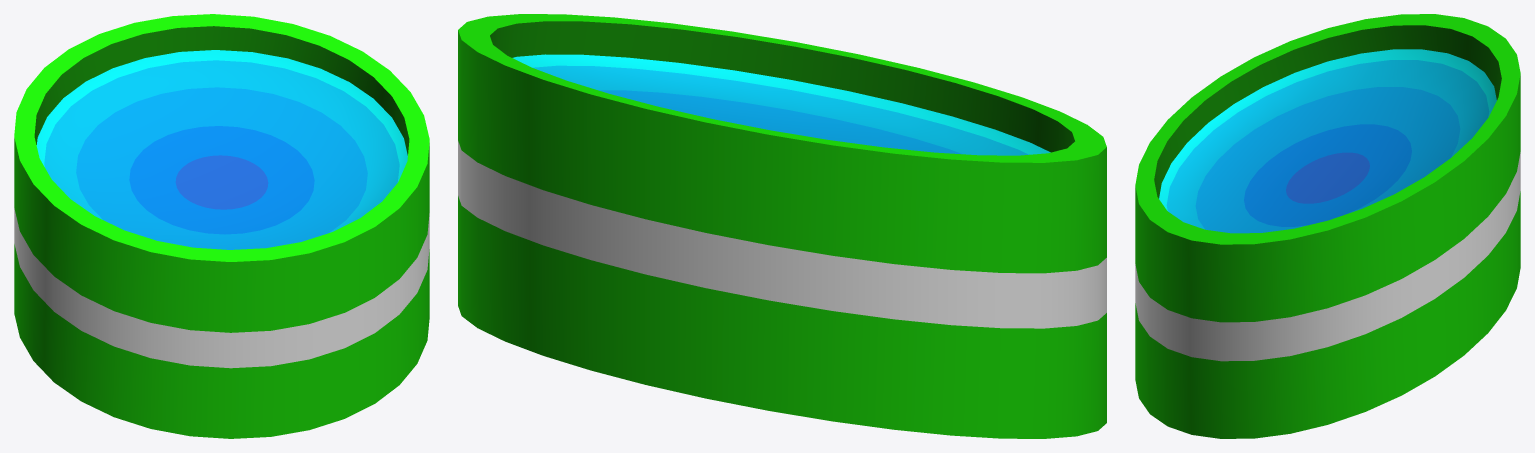
Rendered from D_FBX_08_Portal.fbx.
3 views of the same model, side by side, from view 1: azimuth 30°, elevation 25°; view 2: azimuth 150°, elevation 25°; view 3: azimuth 270°, elevation 25° (orthographic). The views are drawn at different scales.
Parts seen in each view (by area): view 1: D_FBX_08_Portal; view 2: D_FBX_08_Portal; view 3: D_FBX_08_Portal.
Boxes of the visible parts, bbox=[...] form: D_FBX_08_Portal: bbox=[14, 14, 429, 438]; D_FBX_08_Portal: bbox=[458, 14, 1106, 438]; D_FBX_08_Portal: bbox=[1135, 14, 1520, 438].
Size of the model in its own units: 240 by 170 by 193.
